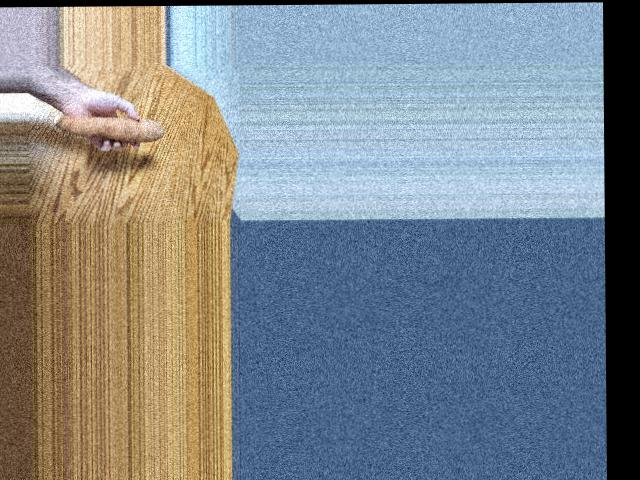sweet_potato: (58, 116, 168, 150)
